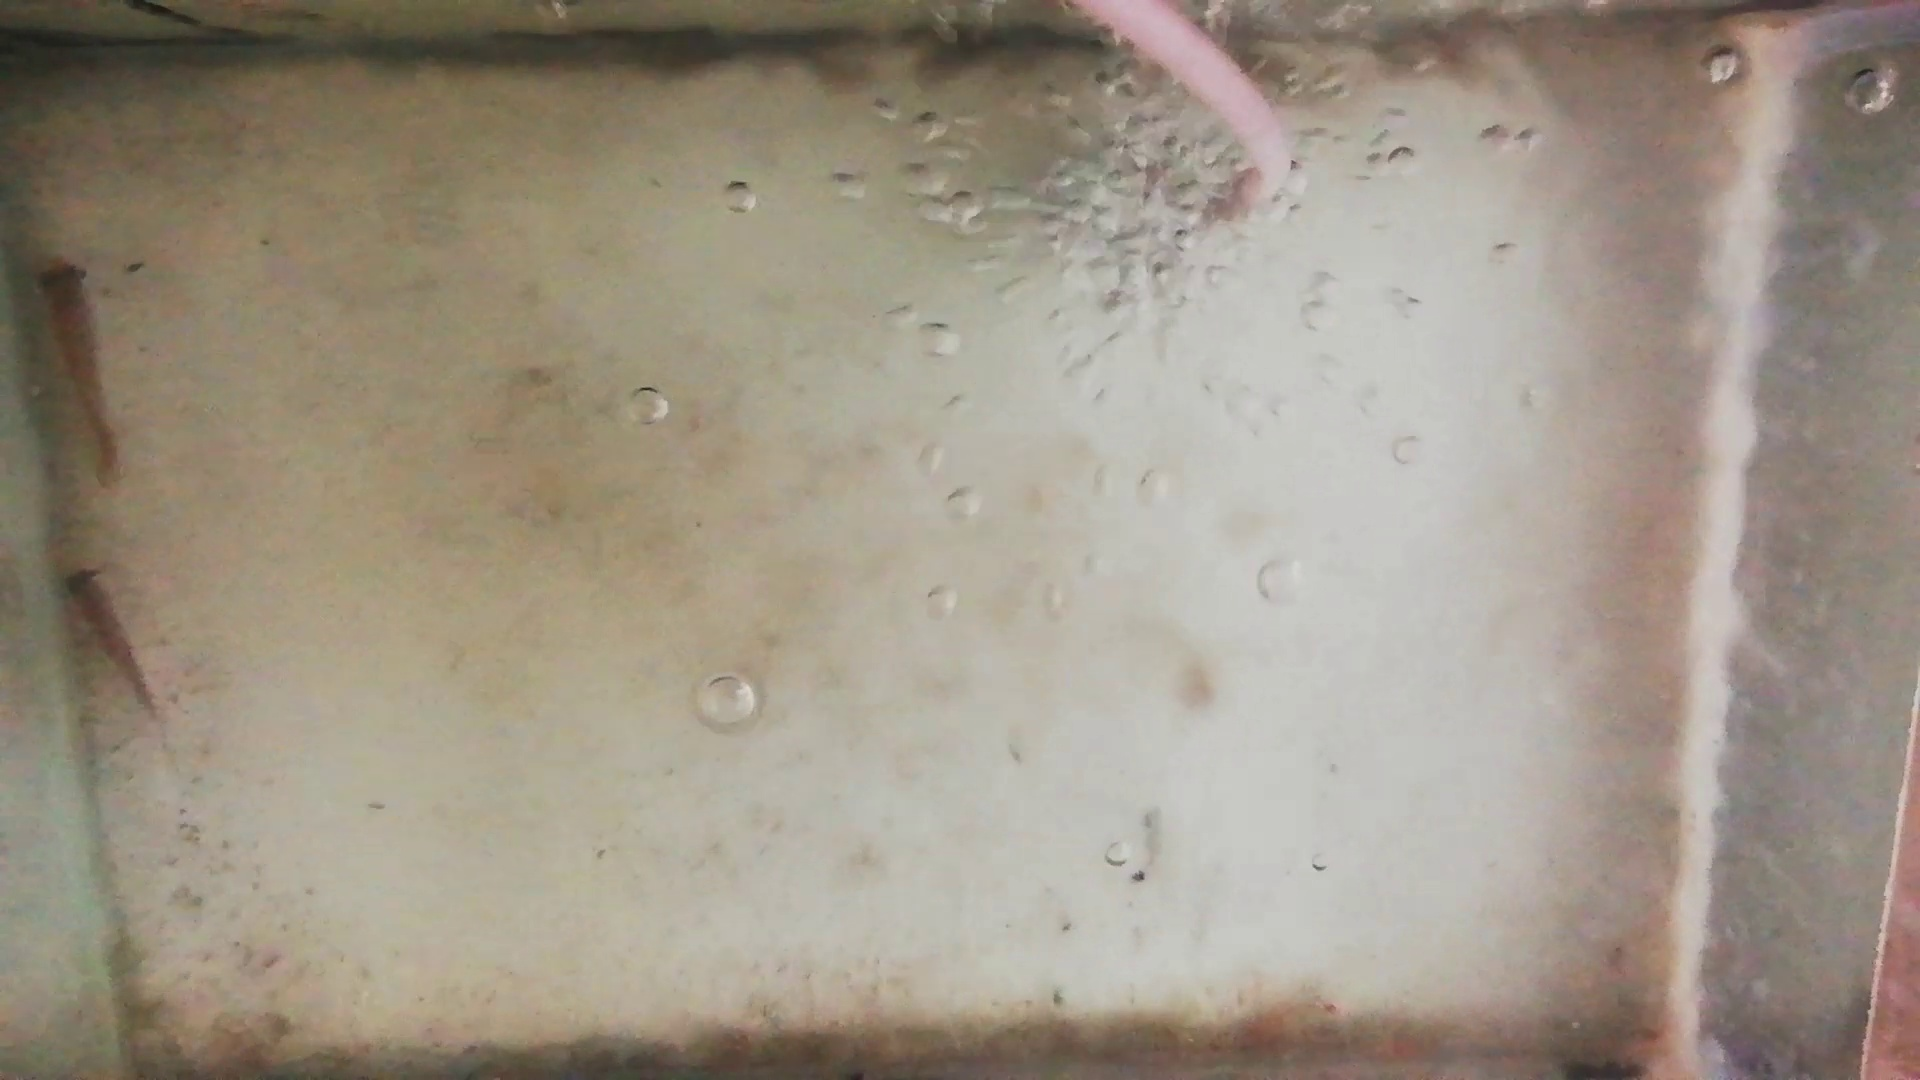fish: (36, 258, 124, 483), (61, 566, 160, 727)
